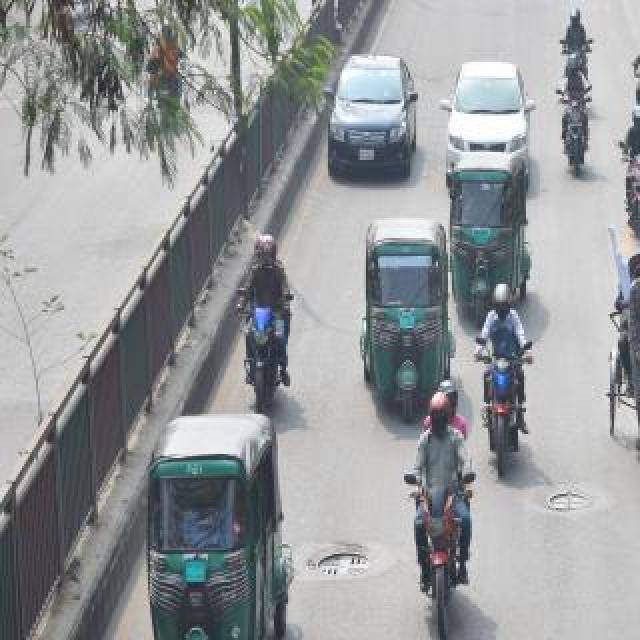car: (323, 44, 421, 188), (441, 58, 539, 190)
motorbike: (404, 454, 480, 640), (468, 330, 542, 484), (235, 282, 297, 416), (557, 85, 597, 179), (616, 126, 640, 238), (551, 32, 597, 90), (628, 52, 640, 136)
